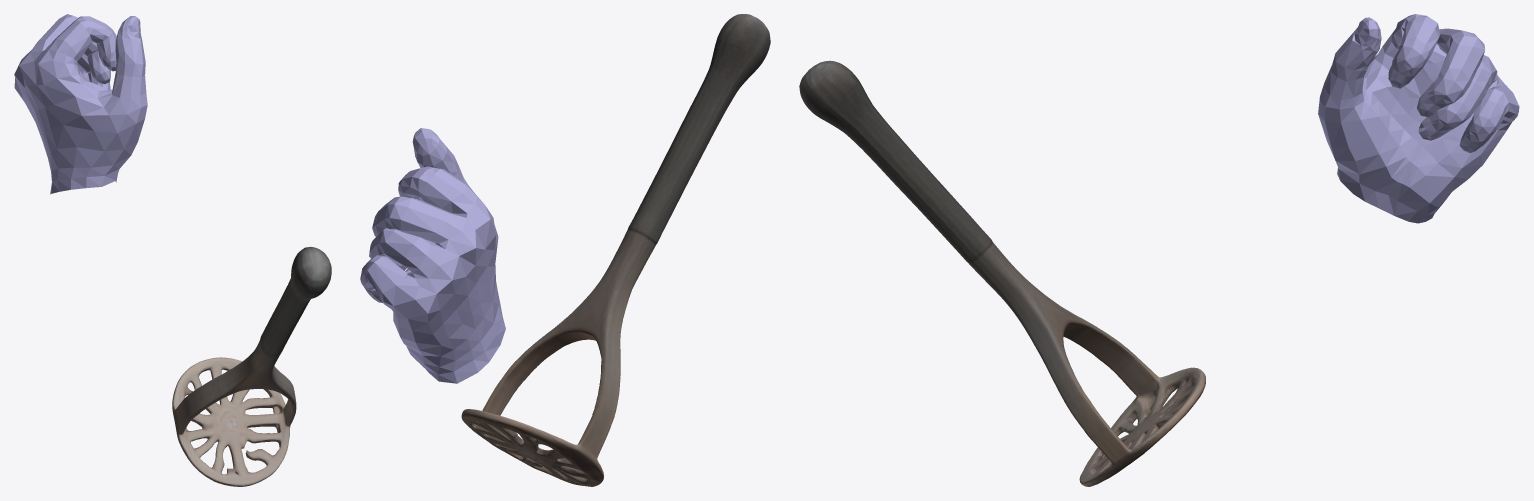
The model's file is frame_0068_source_000068_hand_object.glb.
3 views of the same model, side by side, from view 1: azimuth 30°, elevation 25°; view 2: azimuth 150°, elevation 25°; view 3: azimuth 270°, elevation 25° (orthographic). The views are drawn at different scales.
Visible parts, largest first — view 1: world; view 2: world; view 3: world.
Part boxes in pixels (x1,y1,x2,y2): world: [14, 14, 331, 486]; world: [360, 14, 770, 486]; world: [799, 14, 1519, 486].
Size of the model in its own units: 0.0941 by 0.2553 by 0.3615.
